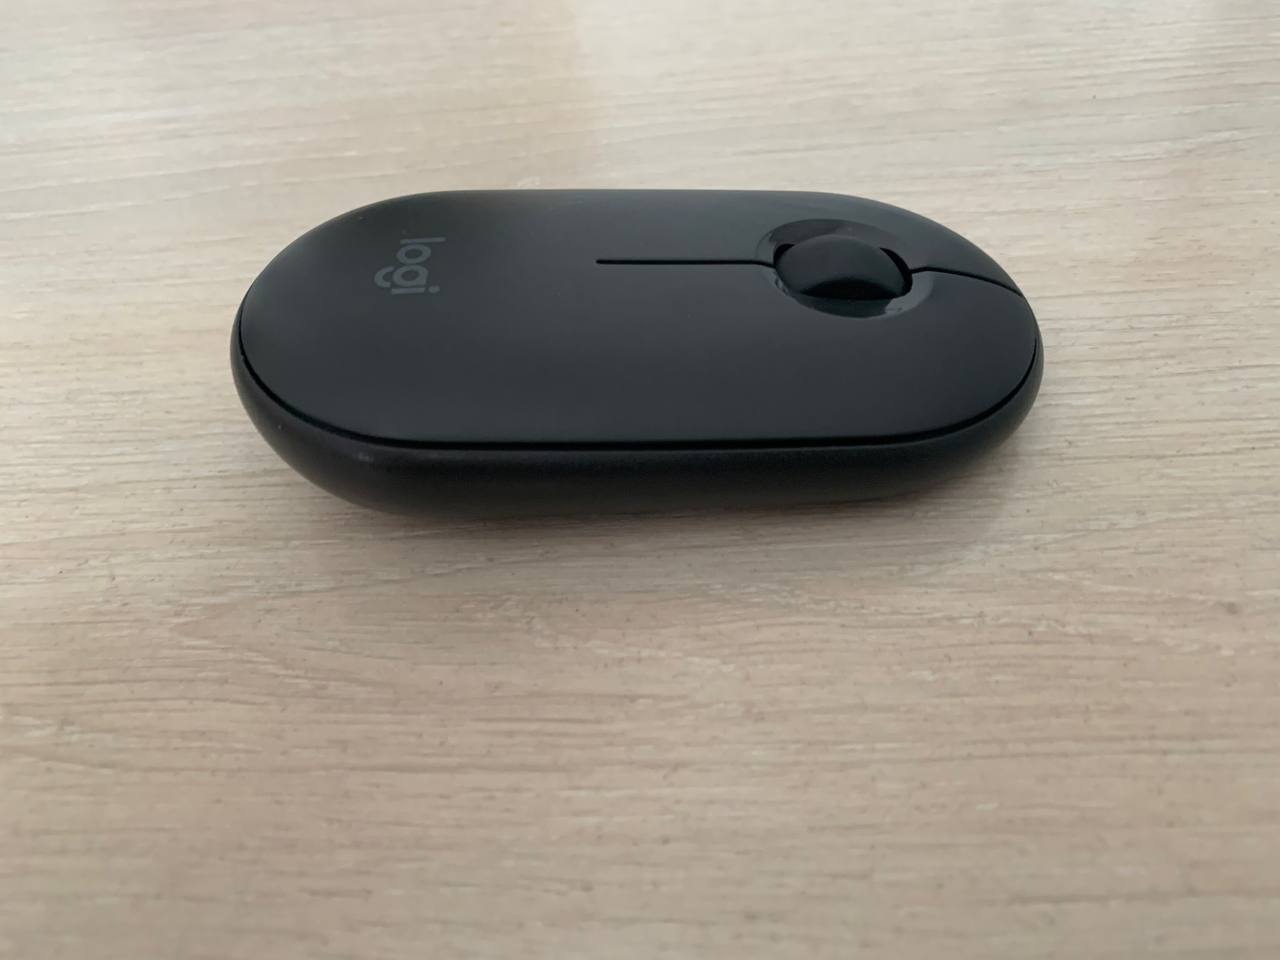mouse: (230, 191, 1044, 517)
